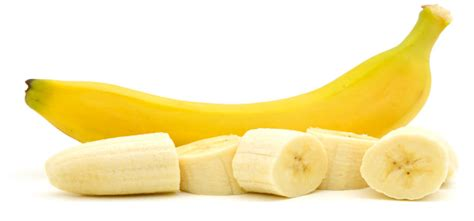banana: (24, 34, 434, 151)
